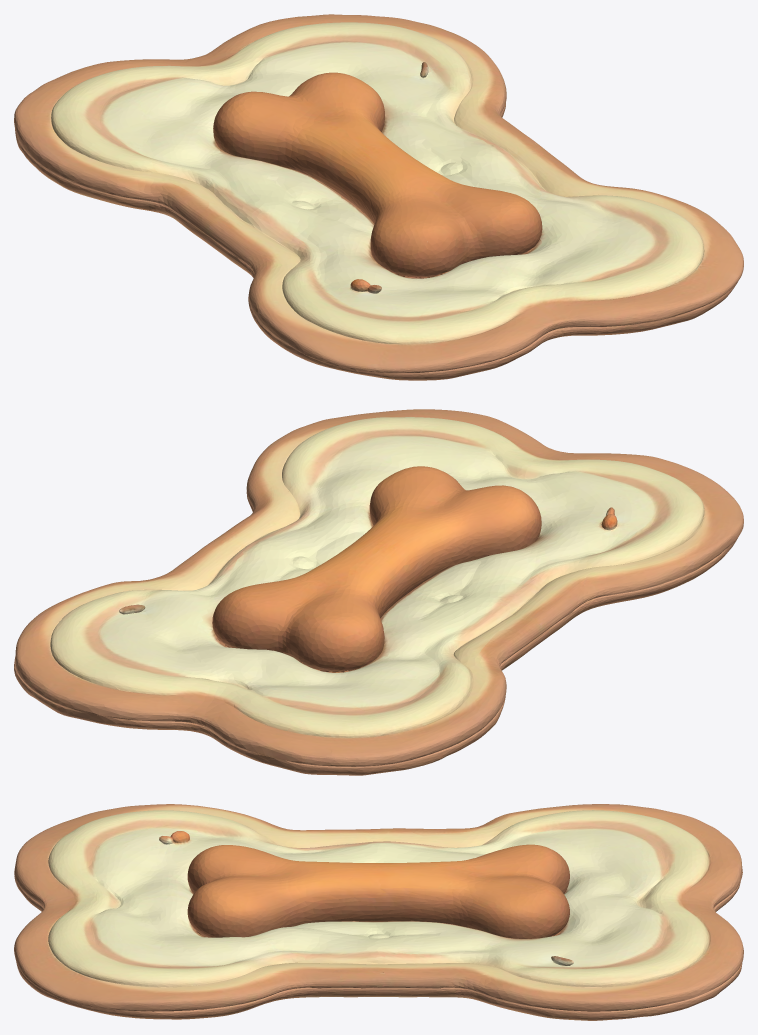
3 renders of one model, top to bottom at view 1: azimuth 30°, elevation 25°; view 2: azimuth 150°, elevation 25°; view 3: azimuth 270°, elevation 25°, orthographic. The views are drawn at different scales.
Parts seen in each view (by area): view 1: tripo_node_512d1fac-69d2-46b9-82ba-ecbe2aa7d488; view 2: tripo_node_512d1fac-69d2-46b9-82ba-ecbe2aa7d488; view 3: tripo_node_512d1fac-69d2-46b9-82ba-ecbe2aa7d488.
Part boxes in pixels (x1,y1,x2,y2): tripo_node_512d1fac-69d2-46b9-82ba-ecbe2aa7d488: (14,14,743,380); tripo_node_512d1fac-69d2-46b9-82ba-ecbe2aa7d488: (14,409,743,775); tripo_node_512d1fac-69d2-46b9-82ba-ecbe2aa7d488: (14,804,743,1020).
Size of the model in its own units: 0.6311 by 0.1038 by 0.9801.
Materials: 1 (1 with a texture image).
